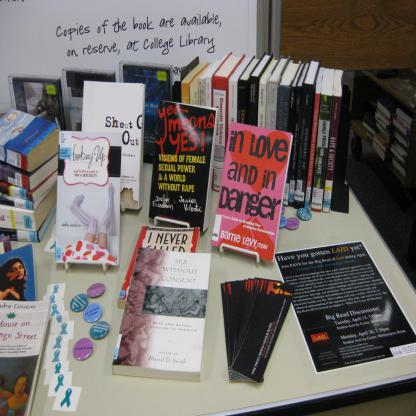book: (0, 50, 346, 415), (358, 96, 416, 179)
